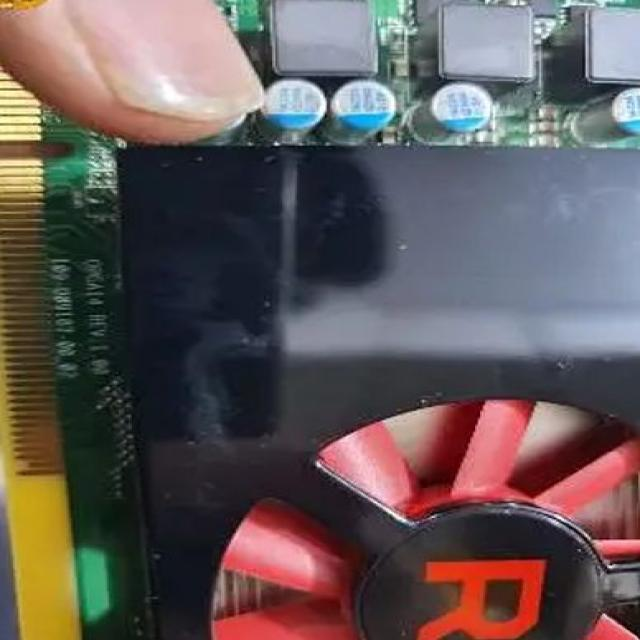electronic: (49, 106, 640, 640)
